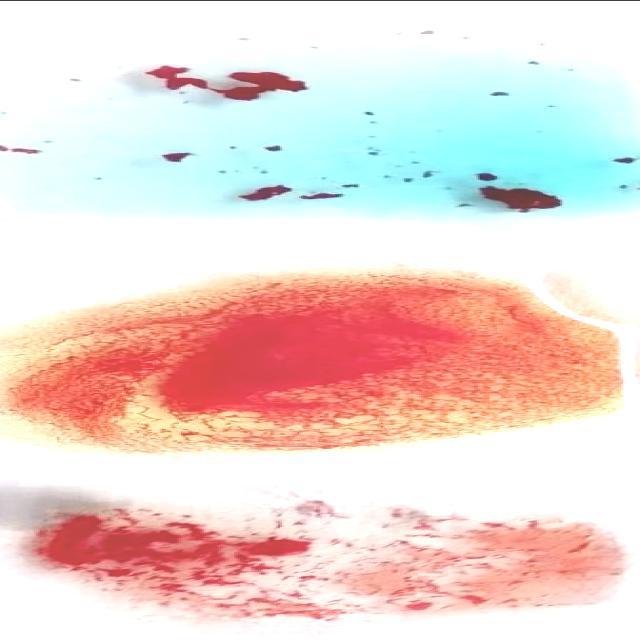A: (0, 41, 638, 210)
B: (0, 271, 631, 448)
D: (49, 499, 620, 614)
